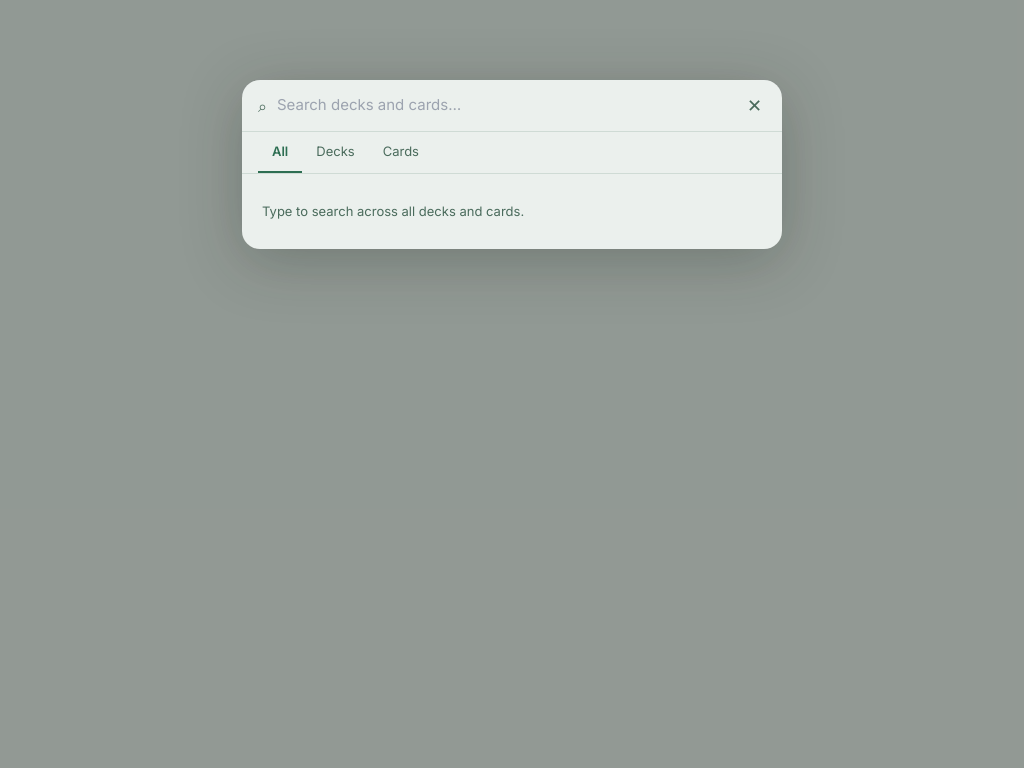
it: SearchModal › switching to Cards tab hides decks section
Type "aspirin" into the field with test id "search-input". click: coordinates (510, 106)
box: [277,94,743,117]
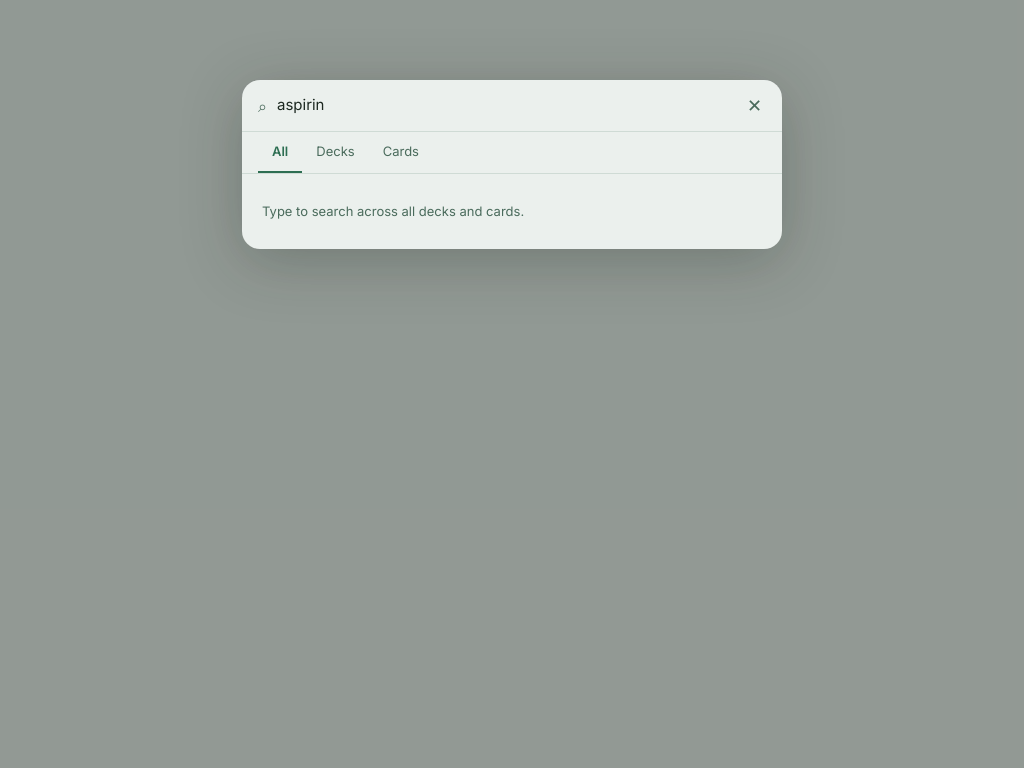
Click the button with test id "search-tab-cards". click: coordinates (401, 152)
box: [369,132,433,172]
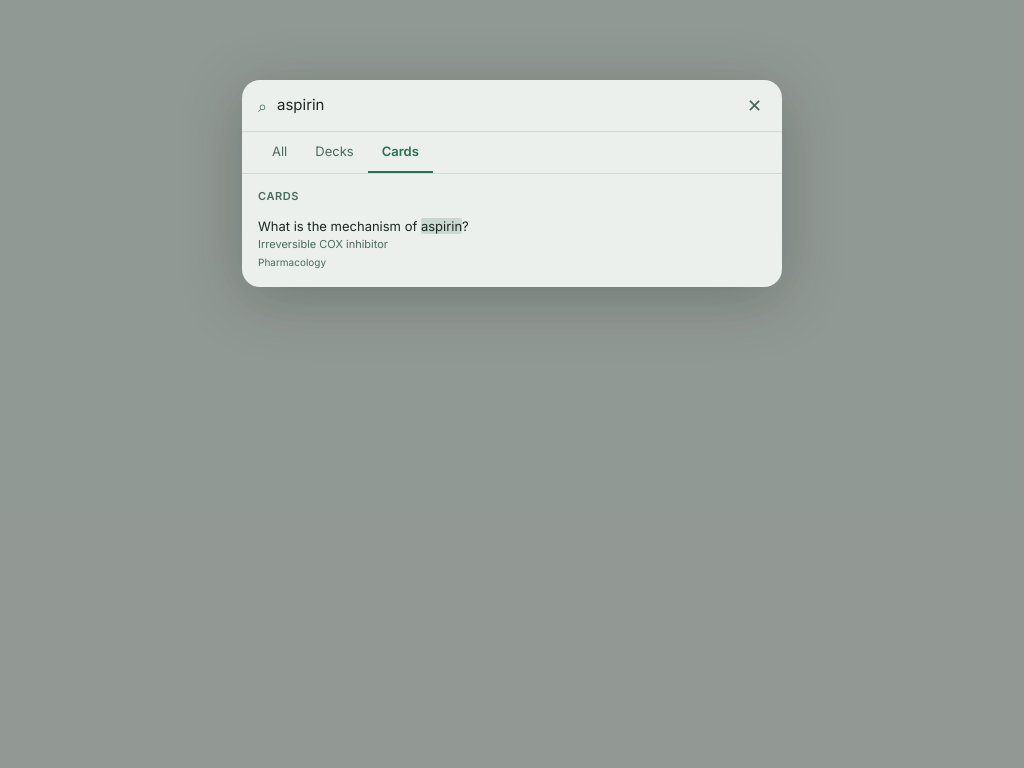
expect the element with test id "search-cards-section" is shown: met, box [242,182,782,279]
